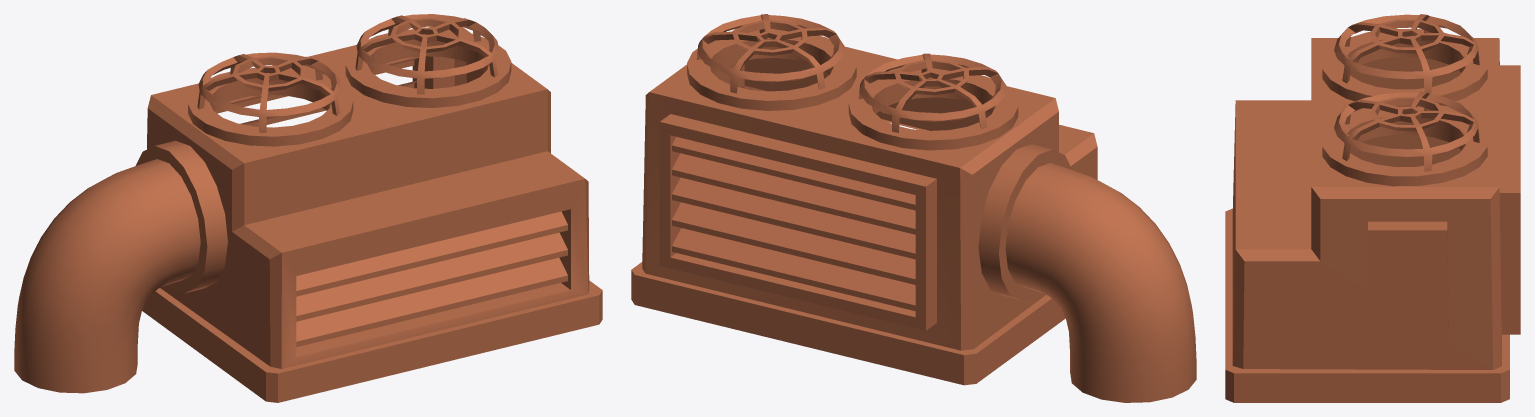
The model's file is mesh_AirConLarge_v1.fbx.
3 views of the same model, side by side, from view 1: azimuth 30°, elevation 25°; view 2: azimuth 150°, elevation 25°; view 3: azimuth 270°, elevation 25° (orthographic). The views are drawn at different scales.
Visible parts, largest first — view 1: mesh_AirConLarge; view 2: mesh_AirConLarge; view 3: mesh_AirConLarge.
Boxes of the visible parts, x1,y1,x2,y2 form: mesh_AirConLarge: [14, 14, 602, 402]; mesh_AirConLarge: [631, 14, 1196, 402]; mesh_AirConLarge: [1225, 14, 1520, 402].
Bounding box in the file's own units: 299 × 140 × 150.
